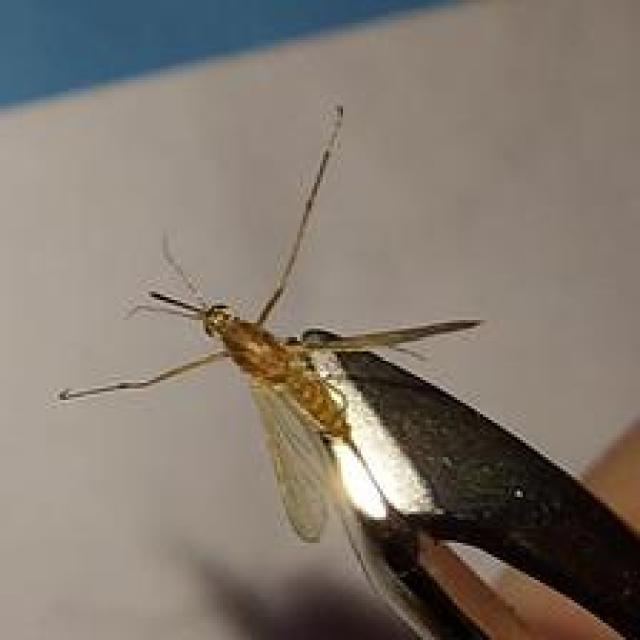Culex: (54, 103, 640, 640)
